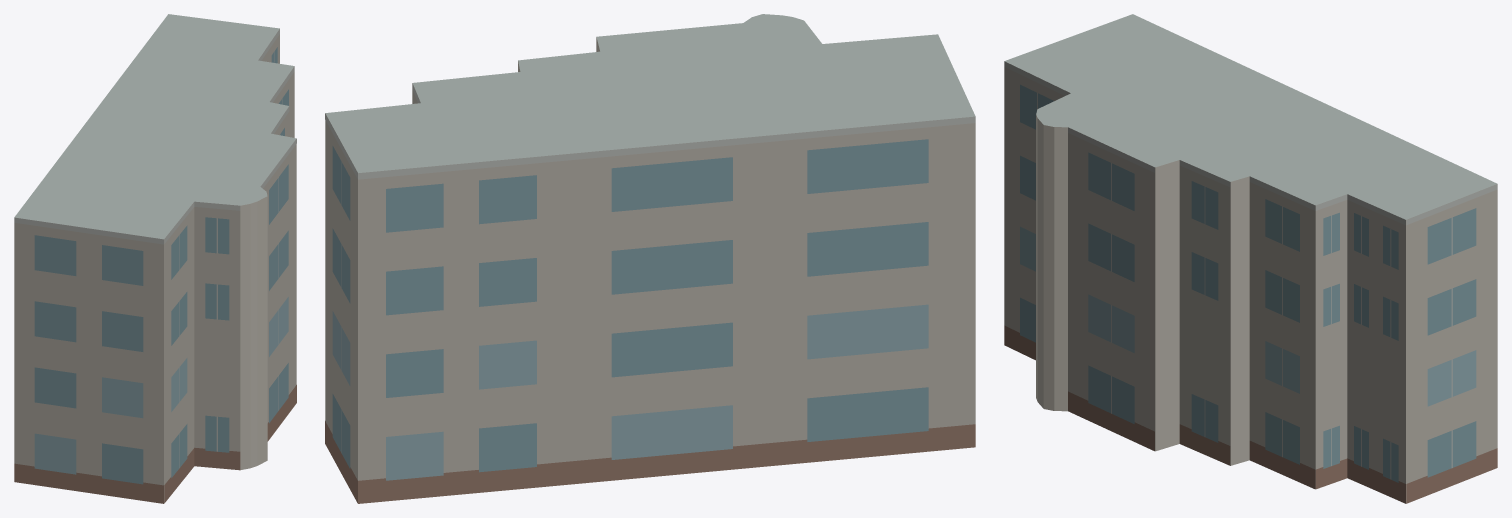
Rendered from survey-upis-32730043.glb.
3 renders of one model, left to right at view 1: azimuth 30°, elevation 25°; view 2: azimuth 150°, elevation 25°; view 3: azimuth 270°, elevation 25°, orthographic. The views are drawn at different scales.
Visible parts, largest first — view 1: survey-upis-32730043.tmp; view 2: survey-upis-32730043.tmp; view 3: survey-upis-32730043.tmp.
Part boxes in pixels (x1,y1,x2,y2): survey-upis-32730043.tmp: [14, 14, 296, 503]; survey-upis-32730043.tmp: [325, 14, 975, 503]; survey-upis-32730043.tmp: [1004, 14, 1497, 503].
Bounding box in the file's own units: 19.29 × 12.4 × 19.53.
